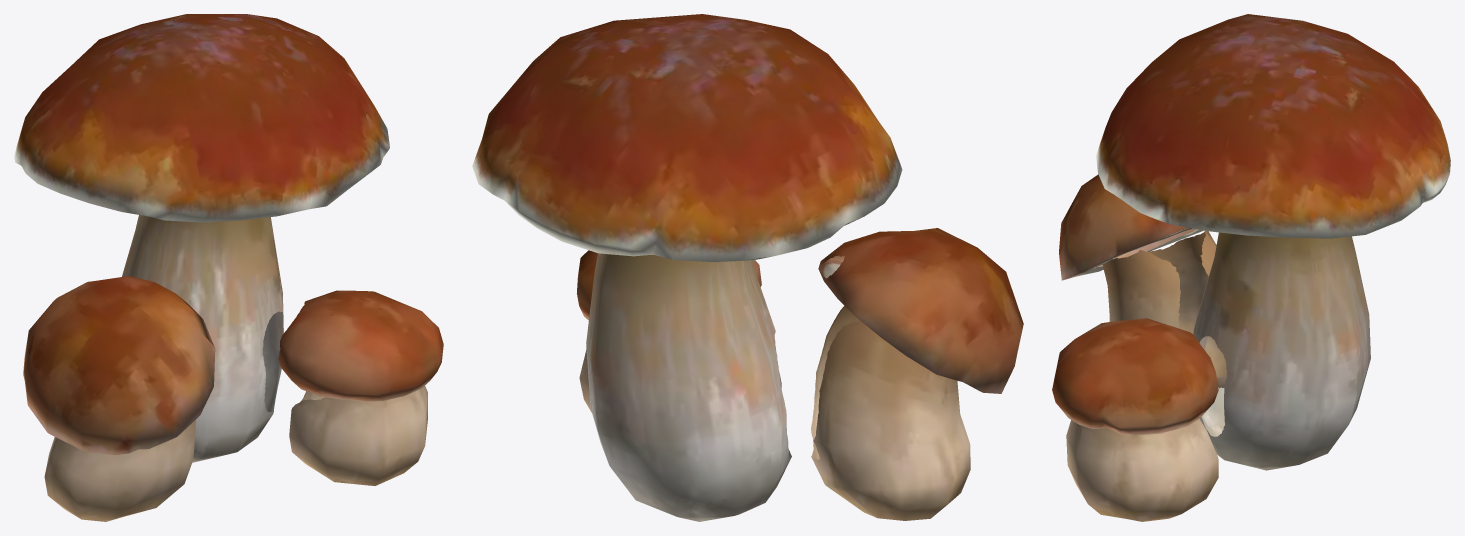
3 views of the same model, side by side, from view 1: azimuth 30°, elevation 25°; view 2: azimuth 150°, elevation 25°; view 3: azimuth 270°, elevation 25° (orthographic). The views are drawn at different scales.
Parts seen in each view (by area): view 1: SM_Bittercap_Mushrooms_LOD0; view 2: SM_Bittercap_Mushrooms_LOD0; view 3: SM_Bittercap_Mushrooms_LOD0.
Part boxes in pixels (x1,y1,x2,y2): SM_Bittercap_Mushrooms_LOD0: (14,14,443,521); SM_Bittercap_Mushrooms_LOD0: (472,14,1023,521); SM_Bittercap_Mushrooms_LOD0: (1052,14,1450,521).
Size of the model in its own units: 0.2608 by 0.2711 by 0.2303.
Materials: 1 (1 with a texture image).
